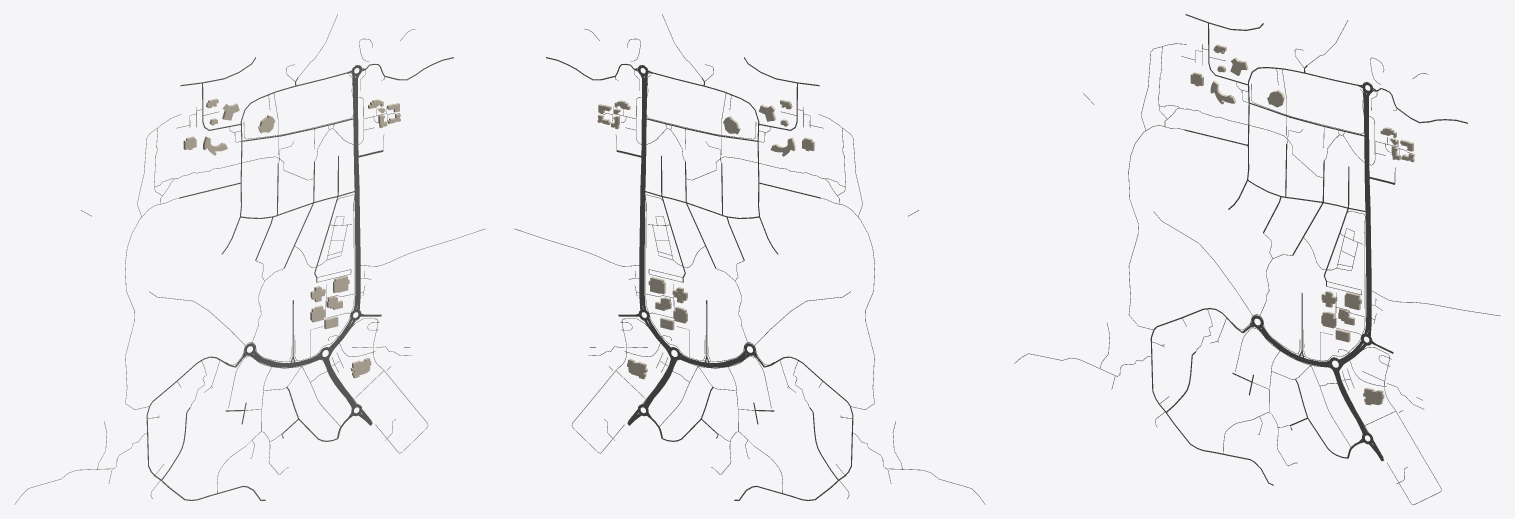
File: historic-palestine-06_17_3483_3119.glb
3 renders of one model, left to right at view 1: azimuth 30°, elevation 25°; view 2: azimuth 150°, elevation 25°; view 3: azimuth 330°, elevation 25°, orthographic. The views are drawn at different scales.
Parts seen in each view (by area): view 1: Road שייח' עודה, Road שייח' עודה.001, Road אל-ירמוכ; view 2: Road שייח' עודה, Road אל-ירמוכ; view 3: Road שייח' עודה, Road שייח' עודה.001, Road אל-ירמוכ.
Boxes of the visible parts, left/top/right/bottom form: Road שייח' עודה: left=352, top=74, right=358, bottom=310; Road שייח' עודה.001: left=355, top=144, right=360, bottom=311; Road אל-ירמוכ: left=146, top=356, right=265, bottom=500; Road שייח' עודה: left=641, top=74, right=647, bottom=310; Road אל-ירמוכ: left=734, top=356, right=853, bottom=500; Road שייח' עודה: left=1363, top=89, right=1369, bottom=334; Road שייח' עודה.001: left=1366, top=164, right=1371, bottom=336; Road אל-ירמוכ: left=1150, top=308, right=1273, bottom=485.
Bounding box in the file's own units: 1354 × 1288 × 8.7.
